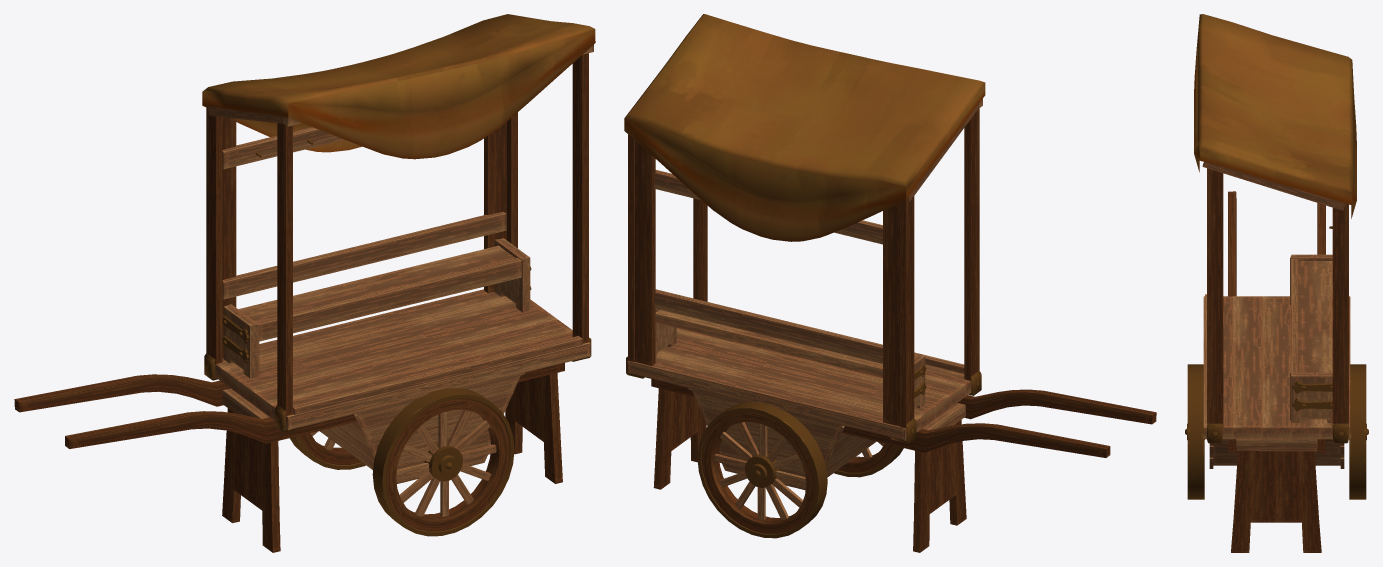
Rendered from stall-cart-empty.glb.
3 views of the same model, side by side, from view 1: azimuth 30°, elevation 25°; view 2: azimuth 150°, elevation 25°; view 3: azimuth 270°, elevation 25° (orthographic). The views are drawn at different scales.
Parts seen in each view (by area): view 1: Stall_Cart_Empty; view 2: Stall_Cart_Empty; view 3: Stall_Cart_Empty.
Boxes of the visible parts, x1,y1,x2,y2 form: Stall_Cart_Empty: (14, 14, 595, 552); Stall_Cart_Empty: (624, 14, 1156, 552); Stall_Cart_Empty: (1185, 14, 1368, 552).
Size of the model in its own units: 3.02 by 2.63 by 1.06.
Materials: 3 (3 with a texture image).
